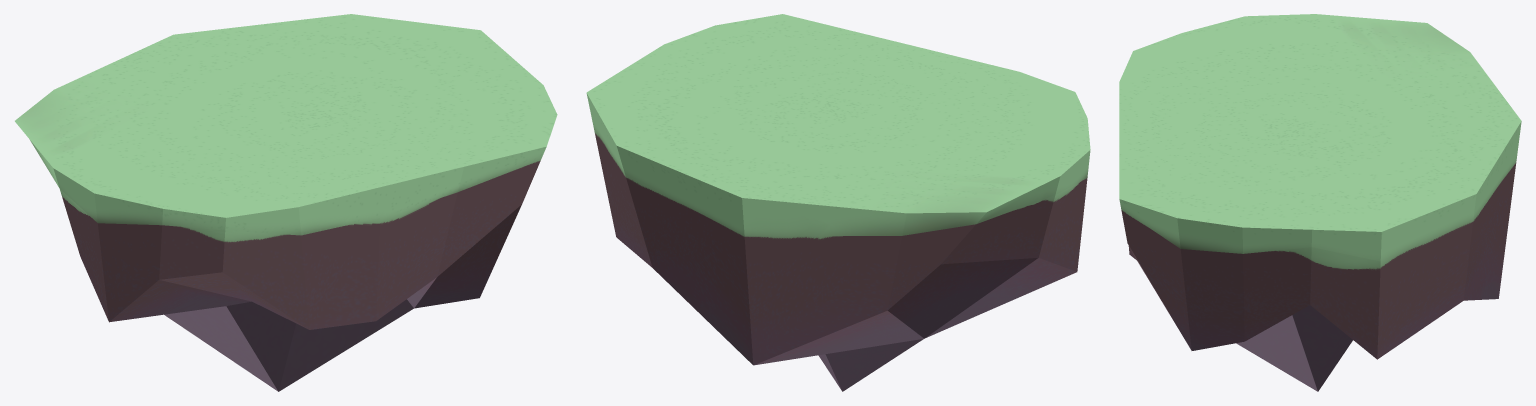
The model's file is Island_Standard.glb.
The picture shows the model from 3 angles, left to right: view 1: azimuth 30°, elevation 25°; view 2: azimuth 150°, elevation 25°; view 3: azimuth 270°, elevation 25°; orthographic projection. The views are drawn at different scales.
Visible parts, largest first — view 1: Island; view 2: Island; view 3: Island.
Part boxes in pixels (x1,y1,x2,y2): Island: [15, 14, 557, 391]; Island: [586, 14, 1090, 391]; Island: [1119, 14, 1521, 391].
Size of the model in its own units: 3.29 by 1.9 by 2.56.
1 material, 1 textured.
